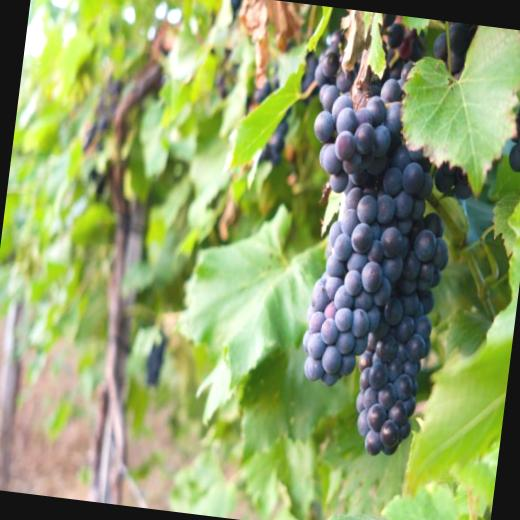Orange: (268, 6, 477, 460), (504, 82, 520, 180), (432, 160, 454, 196), (452, 172, 476, 195), (447, 22, 466, 48), (432, 32, 447, 62), (446, 50, 462, 74)
